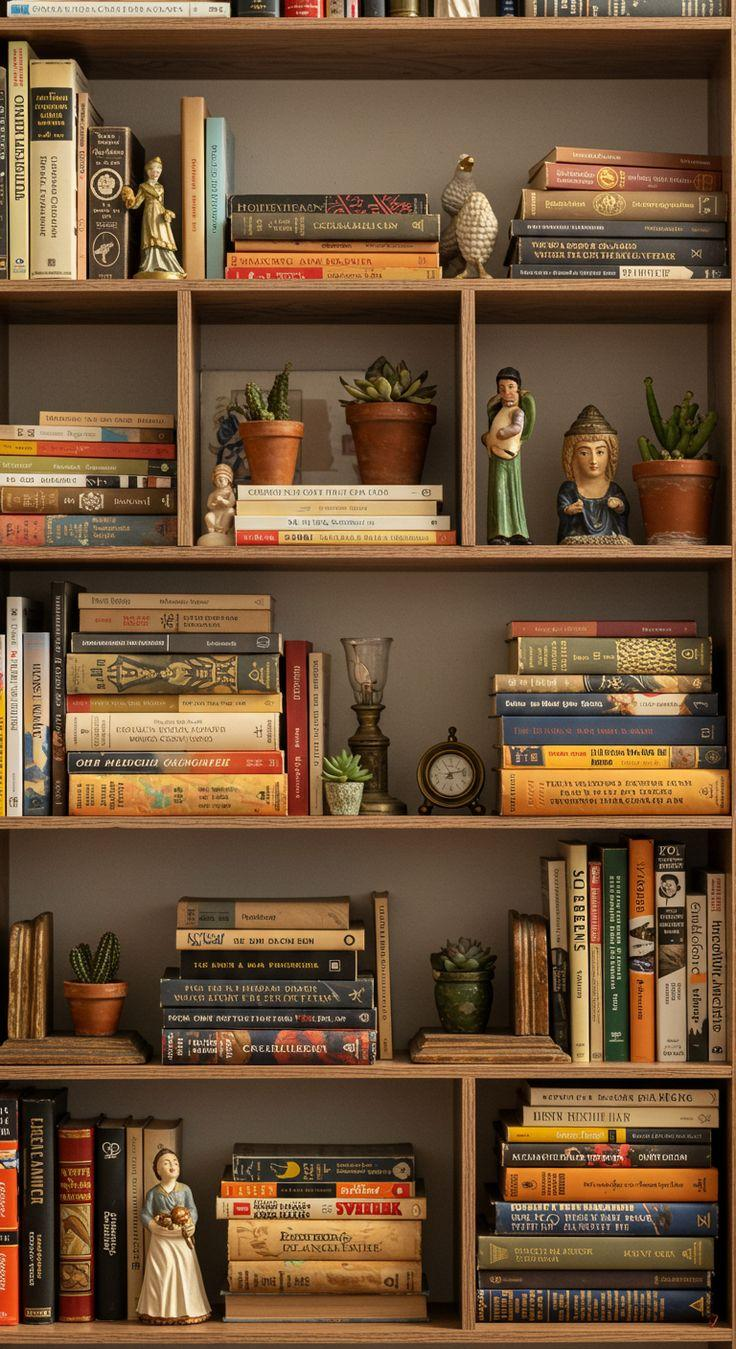book: (28, 55, 89, 280), (67, 771, 288, 817), (20, 1090, 62, 1326), (502, 772, 731, 814), (69, 652, 277, 695), (165, 1024, 381, 1065), (479, 1286, 712, 1324), (67, 712, 283, 751), (85, 122, 137, 280), (477, 1232, 710, 1267), (506, 635, 711, 674), (222, 1219, 421, 1259), (94, 1111, 131, 1319), (508, 1169, 719, 1203), (654, 850, 687, 1064), (224, 1258, 425, 1293), (519, 189, 726, 222), (495, 715, 722, 744), (159, 979, 373, 1009), (626, 840, 655, 1061), (530, 162, 727, 194), (509, 237, 726, 266), (479, 1264, 711, 1291), (496, 1139, 710, 1167), (503, 743, 730, 769), (67, 750, 285, 776), (499, 1119, 716, 1145), (2, 512, 182, 543), (60, 1130, 89, 1321), (496, 672, 717, 697), (234, 213, 438, 240), (508, 1102, 719, 1128), (22, 630, 51, 818), (698, 868, 726, 1062), (283, 638, 312, 820), (64, 691, 280, 715), (496, 692, 718, 715), (518, 1084, 718, 1109), (217, 1196, 424, 1220), (216, 1175, 418, 1199), (232, 192, 430, 215), (175, 926, 364, 950), (513, 218, 728, 239), (70, 631, 274, 653), (162, 1007, 375, 1028), (78, 592, 272, 614), (1, 487, 176, 511), (233, 528, 454, 546), (228, 250, 437, 269), (233, 498, 439, 517), (9, 1, 227, 18), (231, 514, 448, 531), (0, 456, 175, 477), (227, 264, 443, 281), (0, 439, 176, 458), (1, 425, 175, 444), (0, 471, 174, 489), (239, 488, 446, 501), (36, 410, 179, 428)
